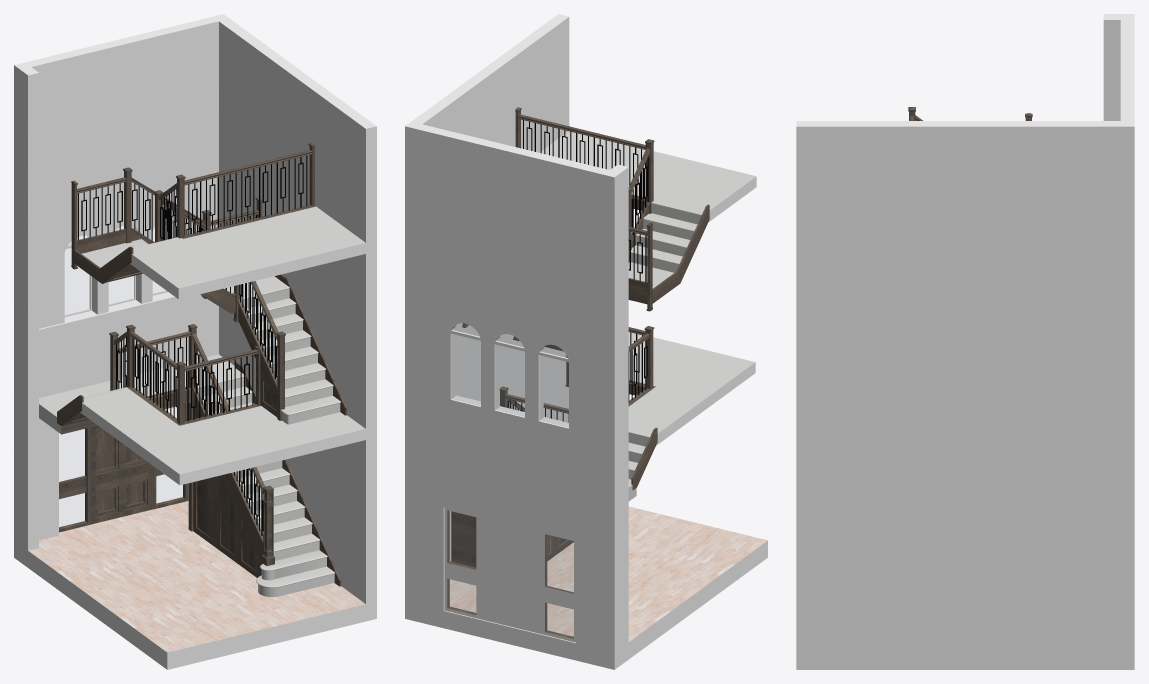
The model's file is southway.glb.
3 renders of one model, left to right at view 1: azimuth 30°, elevation 25°; view 2: azimuth 150°, elevation 25°; view 3: azimuth 270°, elevation 25°, orthographic. The views are drawn at different scales.
Parts seen in each view (by area): view 1: Mesh273_FrontColor_0, Mesh272_Wood_Floor_12_1K_0, Mesh184_Carpet_01_1K_0, Mesh266_Carpet_01_1K_0, Mesh272_FrontColor_0, Mesh273_Oak_light_0, Mesh273_Glass_Basic_01_0, Mesh268_Oak_light_0, Mesh274_Oak_light_0, Mesh184_M00_Soft_Cloud_0, Mesh202_Carpet_01_1K_0, Mesh266_M00_Soft_Cloud_0 (+30 smaller); view 2: Mesh273_FrontColor_0, Mesh272_Wood_Floor_12_1K_0, Mesh273_Glass_Basic_01_0, Mesh266_Carpet_01_1K_0, Mesh184_Carpet_01_1K_0, Mesh272_FrontColor_0, Mesh268_Oak_light_0, Mesh274_Oak_light_0, Mesh184_M00_Soft_Cloud_0, Mesh243_Carpet_01_1K_0, Mesh158_Oak_light_0, Mesh239_Carpet_01_1K_0 (+6 smaller); view 3: Mesh273_FrontColor_0, Mesh272_FrontColor_0.
Part boxes in pixels (<box>): Mesh273_FrontColor_0: <box>14,14,376,603</box>; Mesh272_Wood_Floor_12_1K_0: <box>28,501,365,652</box>; Mesh184_Carpet_01_1K_0: <box>82,387,365,474</box>; Mesh266_Carpet_01_1K_0: <box>132,206,365,288</box>; Mesh272_FrontColor_0: <box>14,540,376,669</box>; Mesh273_Oak_light_0: <box>59,404,187,532</box>; Mesh273_Glass_Basic_01_0: <box>59,214,182,526</box>; Mesh268_Oak_light_0: <box>193,409,261,577</box>; Mesh274_Oak_light_0: <box>77,150,311,493</box>; Mesh184_M00_Soft_Cloud_0: <box>80,403,365,485</box>; Mesh202_Carpet_01_1K_0: <box>39,354,245,433</box>; Mesh266_M00_Soft_Cloud_0: <box>130,243,365,299</box>; Mesh273_FrontColor_0: <box>405,14,628,652</box>; Mesh272_Wood_Floor_12_1K_0: <box>444,506,767,643</box>; Mesh273_Glass_Basic_01_0: <box>447,323,573,638</box>; Mesh266_Carpet_01_1K_0: <box>539,131,755,224</box>; Mesh184_Carpet_01_1K_0: <box>628,332,755,446</box>; Mesh272_FrontColor_0: <box>405,540,767,669</box>; Mesh268_Oak_light_0: <box>451,511,573,567</box>; Mesh274_Oak_light_0: <box>505,114,649,413</box>; Mesh184_M00_Soft_Cloud_0: <box>656,362,755,445</box>; Mesh243_Carpet_01_1K_0: <box>643,213,697,239</box>; Mesh158_Oak_light_0: <box>628,272,677,304</box>; Mesh239_Carpet_01_1K_0: <box>629,245,682,272</box>; Mesh273_FrontColor_0: <box>796,14,1134,650</box>; Mesh272_FrontColor_0: <box>796,651,1134,669</box>.
Bounding box in the file's own units: 38.05 × 85.47 × 48.26.
Materials: 7 (2 with a texture image).
